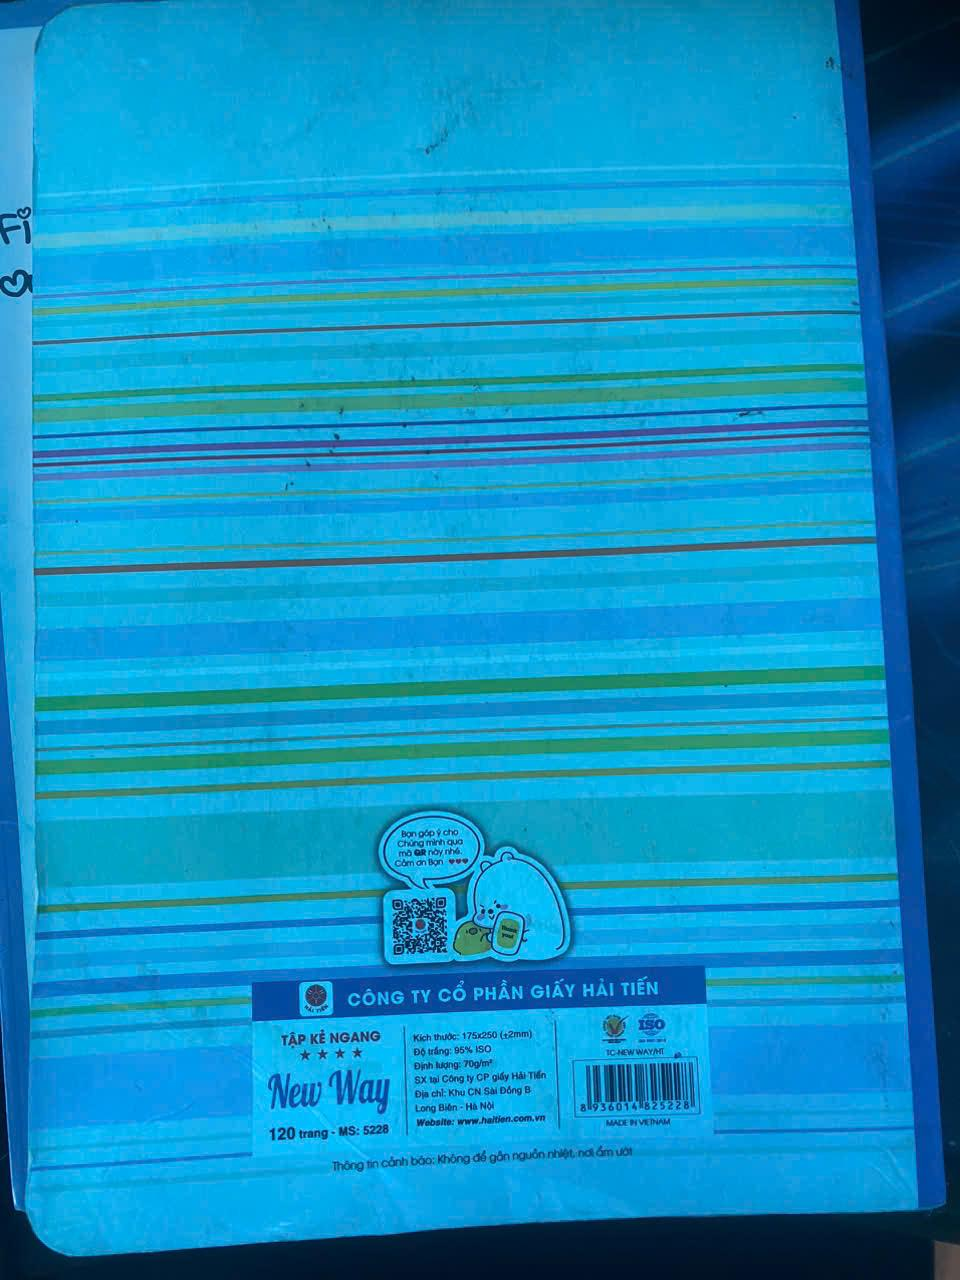quyenvo: (27, 0, 941, 1252)
